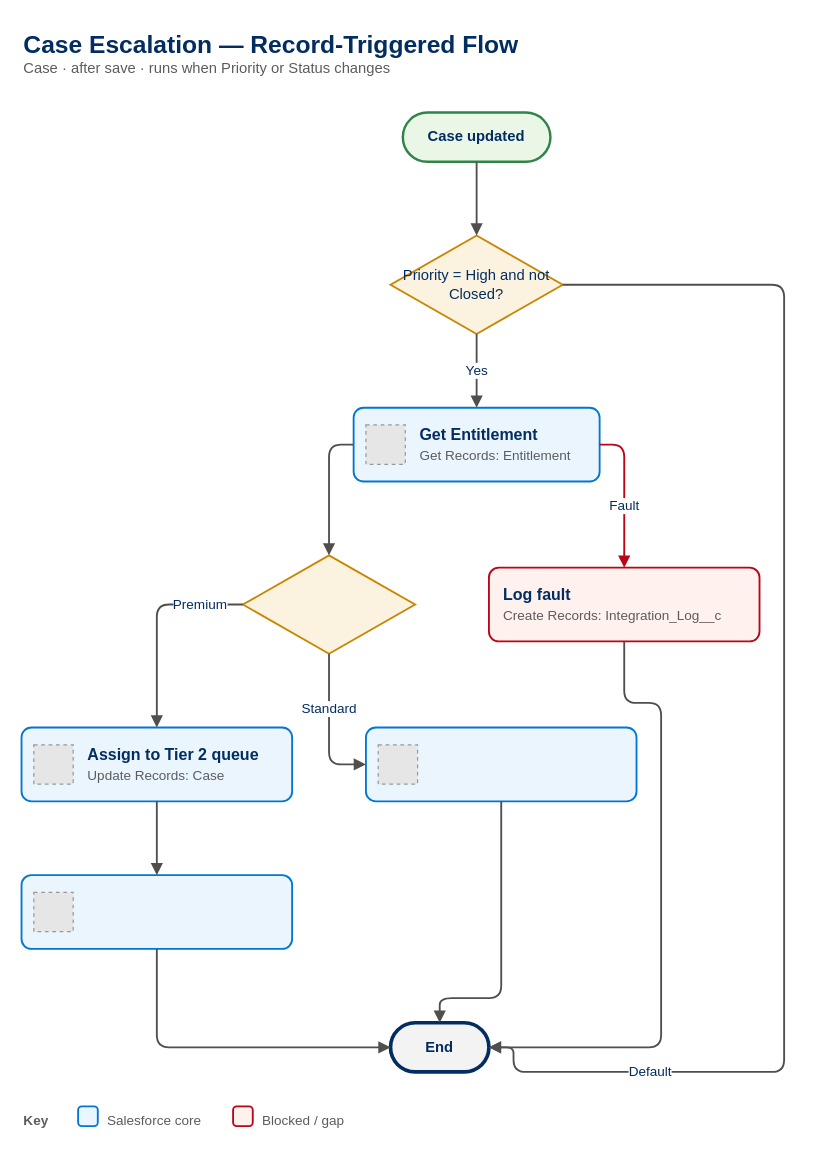
Some shapes in this 817 by 1150 pixel diagram are drawn without their labels. Grey dashed boxes stand in for pictures. The shapes that lost their labels are listed below. From the top down, each one's box as (x1, y1, x2, y2) in pixels, then its label:
(241, 554, 415, 654): Premium SLA?
(364, 726, 637, 802): Create follow-up task Create Records: Task
(20, 874, 292, 949): Notify duty manager Action: Send Slack notification
